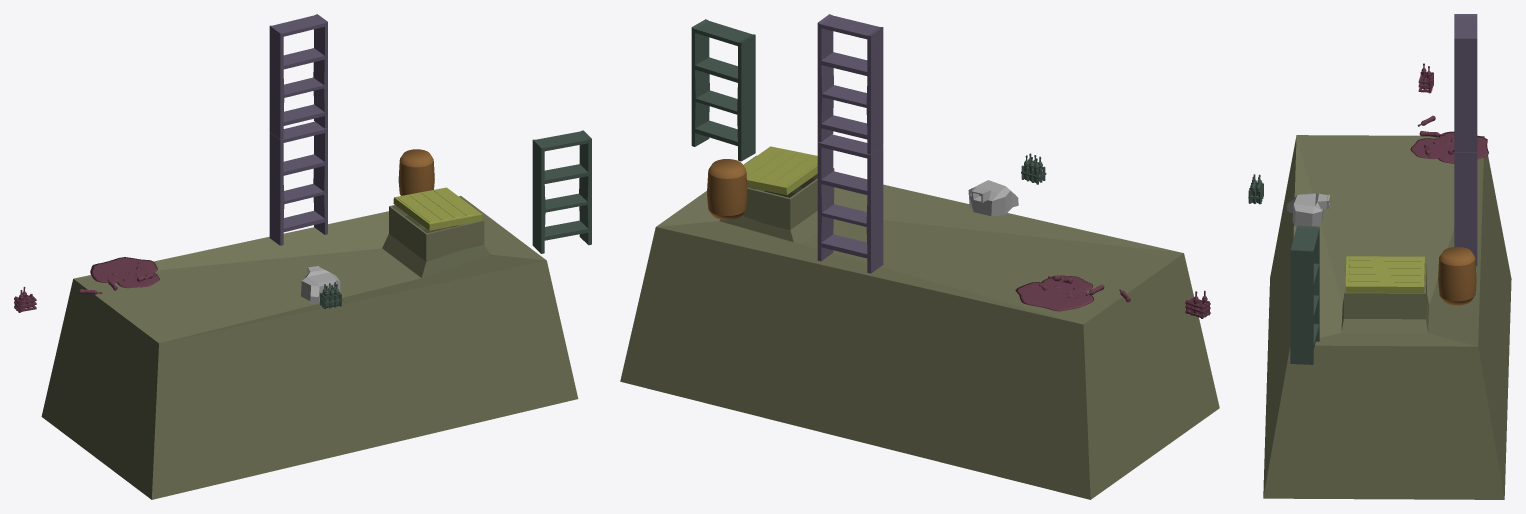
Rendered from almacen.fbx.
3 views of the same model, side by side, from view 1: azimuth 30°, elevation 25°; view 2: azimuth 150°, elevation 25°; view 3: azimuth 270°, elevation 25° (orthographic). The views are drawn at different scales.
Parts seen in each view (by area): view 1: SalaSecreta, Estanteria (×2), Trampilla, Barril, Charco3, SecamanosRoto; view 2: SalaSecreta, Estanteria (×2), Trampilla, Barril, Charco3, SecamanosRoto; view 3: SalaSecreta, Estanteria (×2), Trampilla, Barril, SecamanosRoto, Charco3, Charco4, CajaBotellas, CajaBotellas2.
Part boxes in pixels (x1=…): SalaSecreta: x1=41, y1=196, x2=578, y2=499; Estanteria (×2): x1=269, y1=14, x2=591, y2=253; Trampilla: x1=393, y1=187, x2=482, y2=230; Barril: x1=398, y1=149, x2=434, y2=195; Charco3: x1=90, y1=257, x2=157, y2=282; SecamanosRoto: x1=301, y1=266, x2=340, y2=304; SalaSecreta: x1=620, y1=155, x2=1219, y2=499; Estanteria (×2): x1=691, y1=14, x2=883, y2=273; Trampilla: x1=743, y1=146, x2=817, y2=194; Barril: x1=707, y1=159, x2=747, y2=220; Charco3: x1=1015, y1=282, x2=1093, y2=311; SecamanosRoto: x1=968, y1=180, x2=1018, y2=216; SalaSecreta: x1=1263, y1=135, x2=1511, y2=499; Estanteria (×2): x1=1290, y1=14, x2=1477, y2=364; Trampilla: x1=1345, y1=256, x2=1424, y2=292; Barril: x1=1438, y1=247, x2=1476, y2=305; SecamanosRoto: x1=1287, y1=193, x2=1329, y2=226; Charco3: x1=1438, y1=131, x2=1488, y2=163; Charco4: x1=1410, y1=138, x2=1444, y2=158; CajaBotellas: x1=1248, y1=174, x2=1263, y2=204; CajaBotellas2: x1=1418, y1=63, x2=1433, y2=93.
Bounding box in the file's own units: 1432 × 955 × 593.
